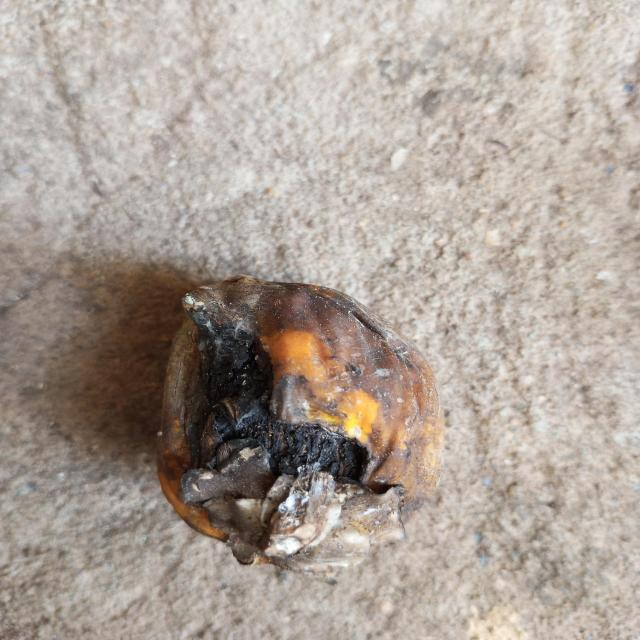damaged: (158, 275, 443, 574)
